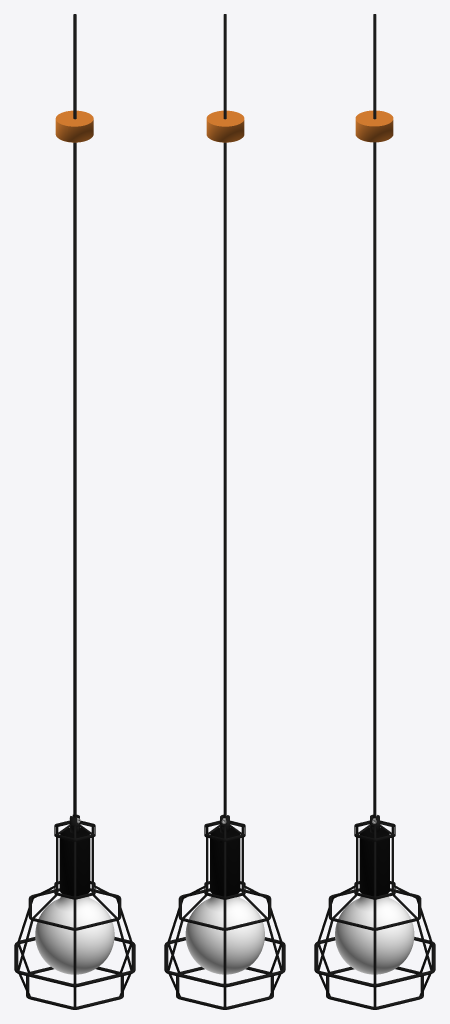
The picture shows the model from 3 angles, left to right: view 1: azimuth 30°, elevation 25°; view 2: azimuth 150°, elevation 25°; view 3: azimuth 330°, elevation 25°; orthographic projection.
Visible parts, largest first — view 1: G-Object.001, _C-Component#138 (Loose Mesh), C-Component#127, C-Component#129, C-Component#132.001, C-Component#132, C-Component#130.004, C-Component#132.002, C-Component#130.005, C-Component#130.003, C-Component#130, C-Component#130.002; view 2: G-Object.001, _C-Component#138 (Loose Mesh), C-Component#127, C-Component#129, C-Component#132.001, C-Component#132, C-Component#130.002, C-Component#132.002, C-Component#130.003, C-Component#130.001, C-Component#130.004, C-Component#130; view 3: G-Object.001, _C-Component#138 (Loose Mesh), C-Component#127, C-Component#129, C-Component#132.001, C-Component#132, C-Component#130.005, C-Component#132.002, C-Component#130, C-Component#130.004, C-Component#130.001, C-Component#130.003.
Part boxes in pixels (left/top/right/bottom): G-Object.001: left=35, top=896, right=114, bottom=974; _C-Component#138 (Loose Mesh): left=73, top=14, right=76, bottom=817; C-Component#127: left=59, top=827, right=90, bottom=896; C-Component#129: left=55, top=110, right=93, bottom=142; C-Component#132.001: left=14, top=937, right=135, bottom=987; C-Component#132: left=26, top=966, right=123, bottom=1009; C-Component#130.004: left=73, top=826, right=76, bottom=1006; C-Component#132.002: left=28, top=888, right=121, bottom=930; C-Component#130.005: left=79, top=824, right=132, bottom=996; C-Component#130.003: left=17, top=825, right=70, bottom=995; C-Component#130: left=80, top=822, right=132, bottom=973; C-Component#130.002: left=17, top=822, right=69, bottom=973; G-Object.001: left=185, top=896, right=264, bottom=974; _C-Component#138 (Loose Mesh): left=223, top=14, right=226, bottom=821; C-Component#127: left=210, top=827, right=240, bottom=896; C-Component#129: left=206, top=110, right=244, bottom=142; C-Component#132.001: left=164, top=937, right=285, bottom=987; C-Component#132: left=176, top=966, right=273, bottom=1009; C-Component#130.002: left=223, top=826, right=226, bottom=1006; C-Component#132.002: left=178, top=888, right=271, bottom=930; C-Component#130.003: left=229, top=825, right=282, bottom=996; C-Component#130.001: left=167, top=825, right=220, bottom=996; C-Component#130.004: left=230, top=822, right=282, bottom=973; C-Component#130: left=167, top=822, right=219, bottom=973; G-Object.001: left=335, top=896, right=414, bottom=974; _C-Component#138 (Loose Mesh): left=373, top=14, right=376, bottom=821; C-Component#127: left=359, top=827, right=389, bottom=896; C-Component#129: left=355, top=110, right=393, bottom=142; C-Component#132.001: left=314, top=937, right=435, bottom=987; C-Component#132: left=326, top=966, right=423, bottom=1009; C-Component#130.005: left=373, top=826, right=376, bottom=1006; C-Component#132.002: left=328, top=888, right=421, bottom=930; C-Component#130: left=379, top=824, right=432, bottom=996; C-Component#130.004: left=317, top=825, right=370, bottom=996; C-Component#130.001: left=380, top=822, right=432, bottom=973; C-Component#130.003: left=317, top=822, right=369, bottom=973.
Bounding box in the file's own units: 21.03 × 165 × 18.69.
